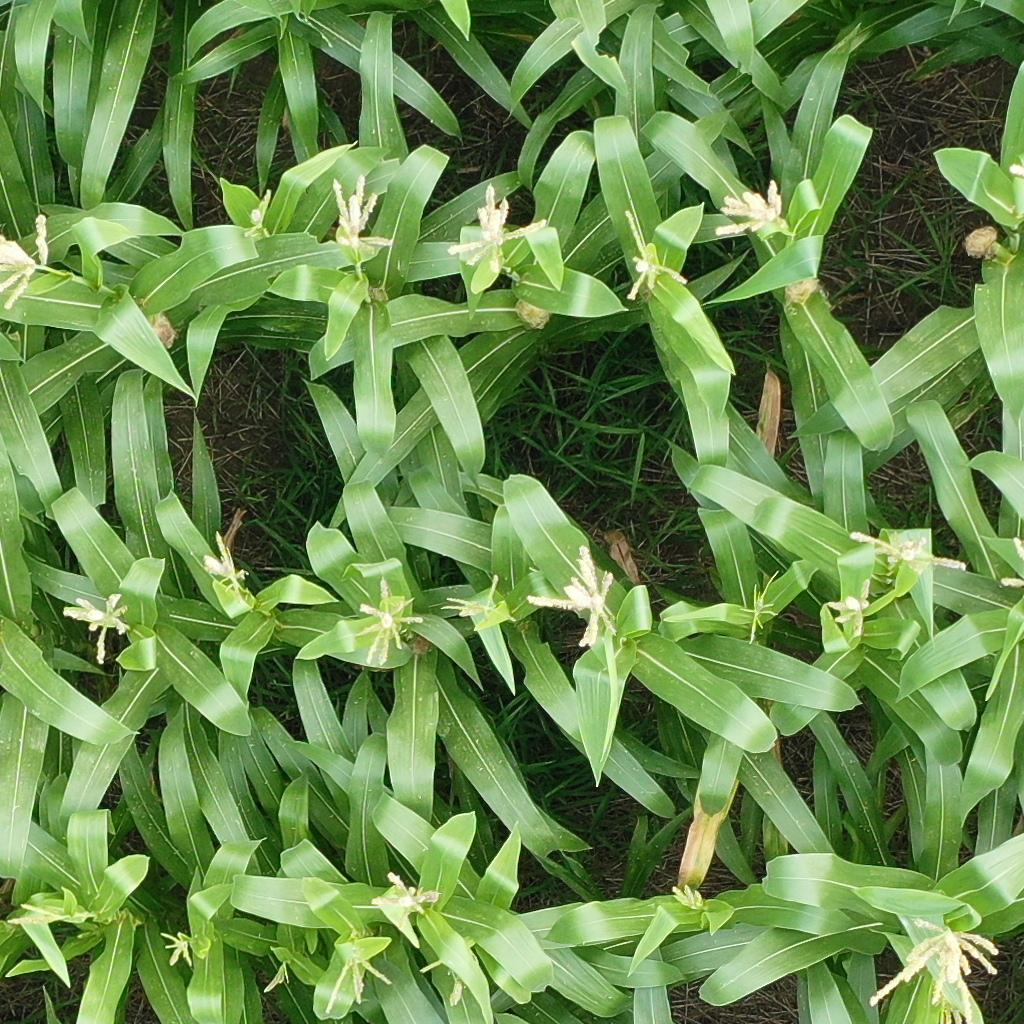Tassel: (869, 915, 999, 1024), (527, 547, 619, 649), (448, 183, 547, 273), (848, 521, 968, 580), (351, 576, 425, 668), (622, 209, 689, 301), (61, 591, 133, 666), (1, 216, 53, 308), (325, 942, 391, 1014), (333, 178, 395, 254), (713, 180, 790, 238), (442, 575, 514, 627), (369, 872, 437, 924), (200, 530, 250, 598), (743, 568, 782, 645), (826, 579, 873, 628), (159, 928, 198, 969), (996, 534, 1024, 589), (6, 903, 65, 927), (248, 190, 272, 238), (262, 959, 292, 993), (670, 884, 706, 910), (445, 973, 466, 1009)
